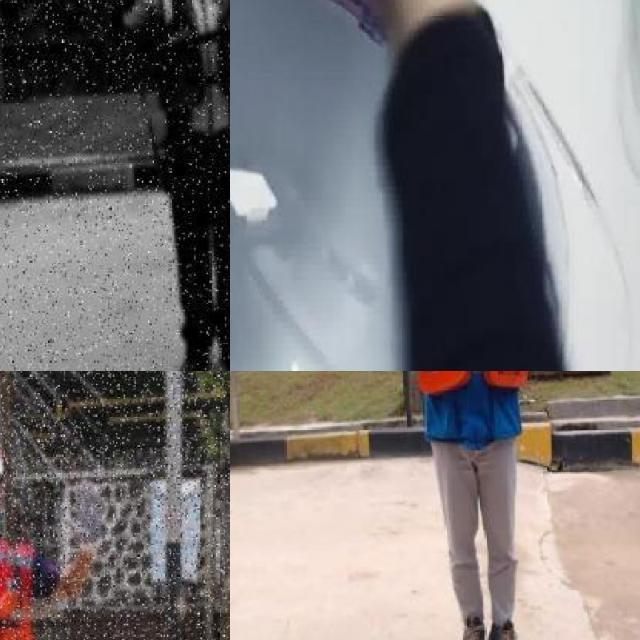apron: (64, 478, 105, 558)
